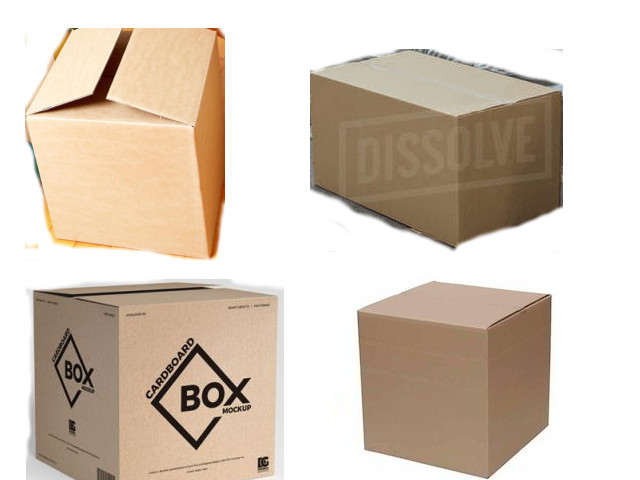cardboard: (311, 51, 563, 243), (34, 283, 278, 476), (30, 30, 218, 256), (358, 280, 553, 478)
